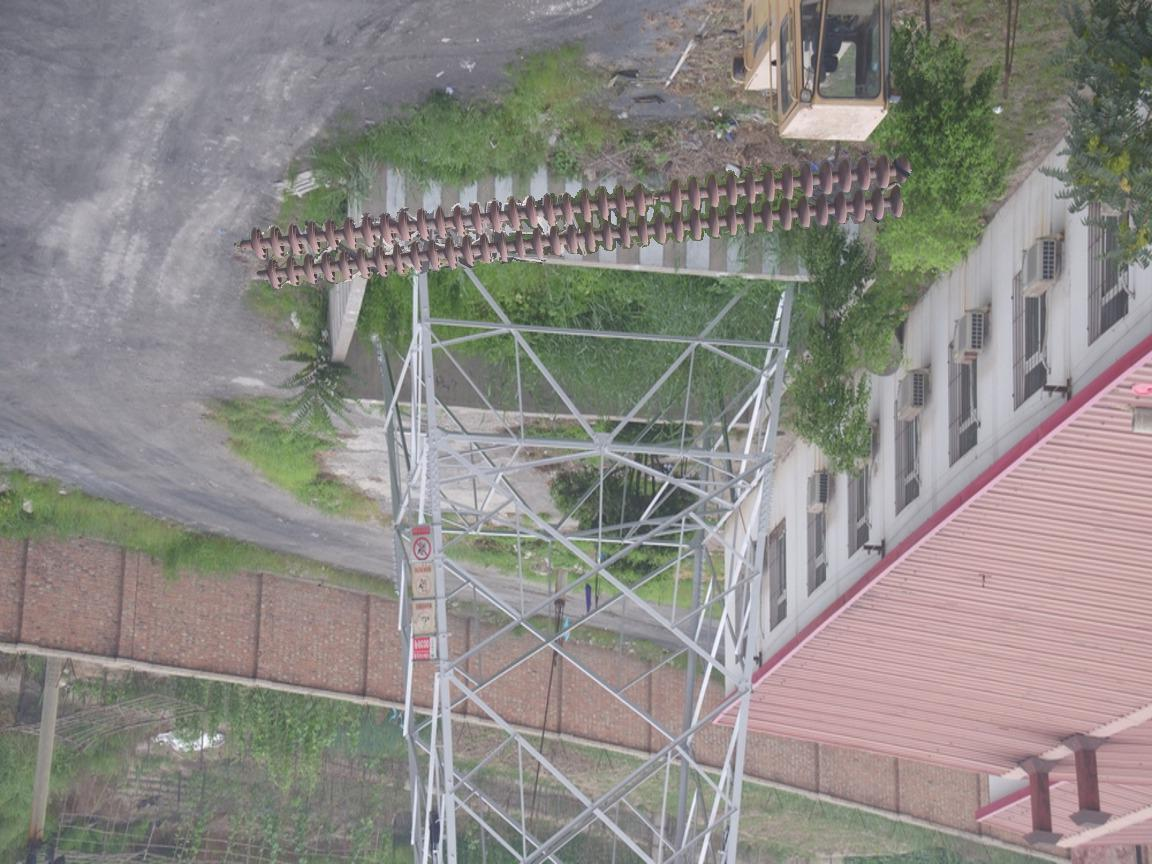insulator: (243, 149, 920, 293)
insulator_stringdrop: (630, 177, 685, 219)
